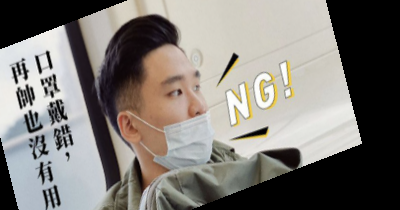mask_weared_incorrect: (97, 4, 214, 169)
